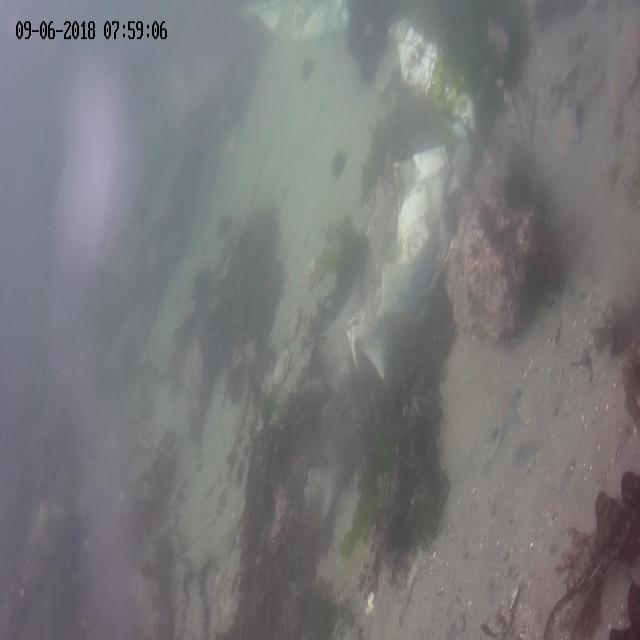echinus: (331, 146, 351, 178)
scallop: (272, 347, 292, 385), (304, 255, 322, 284), (286, 309, 302, 339)
starfish: (488, 388, 524, 437), (554, 104, 583, 161), (607, 66, 631, 118)
